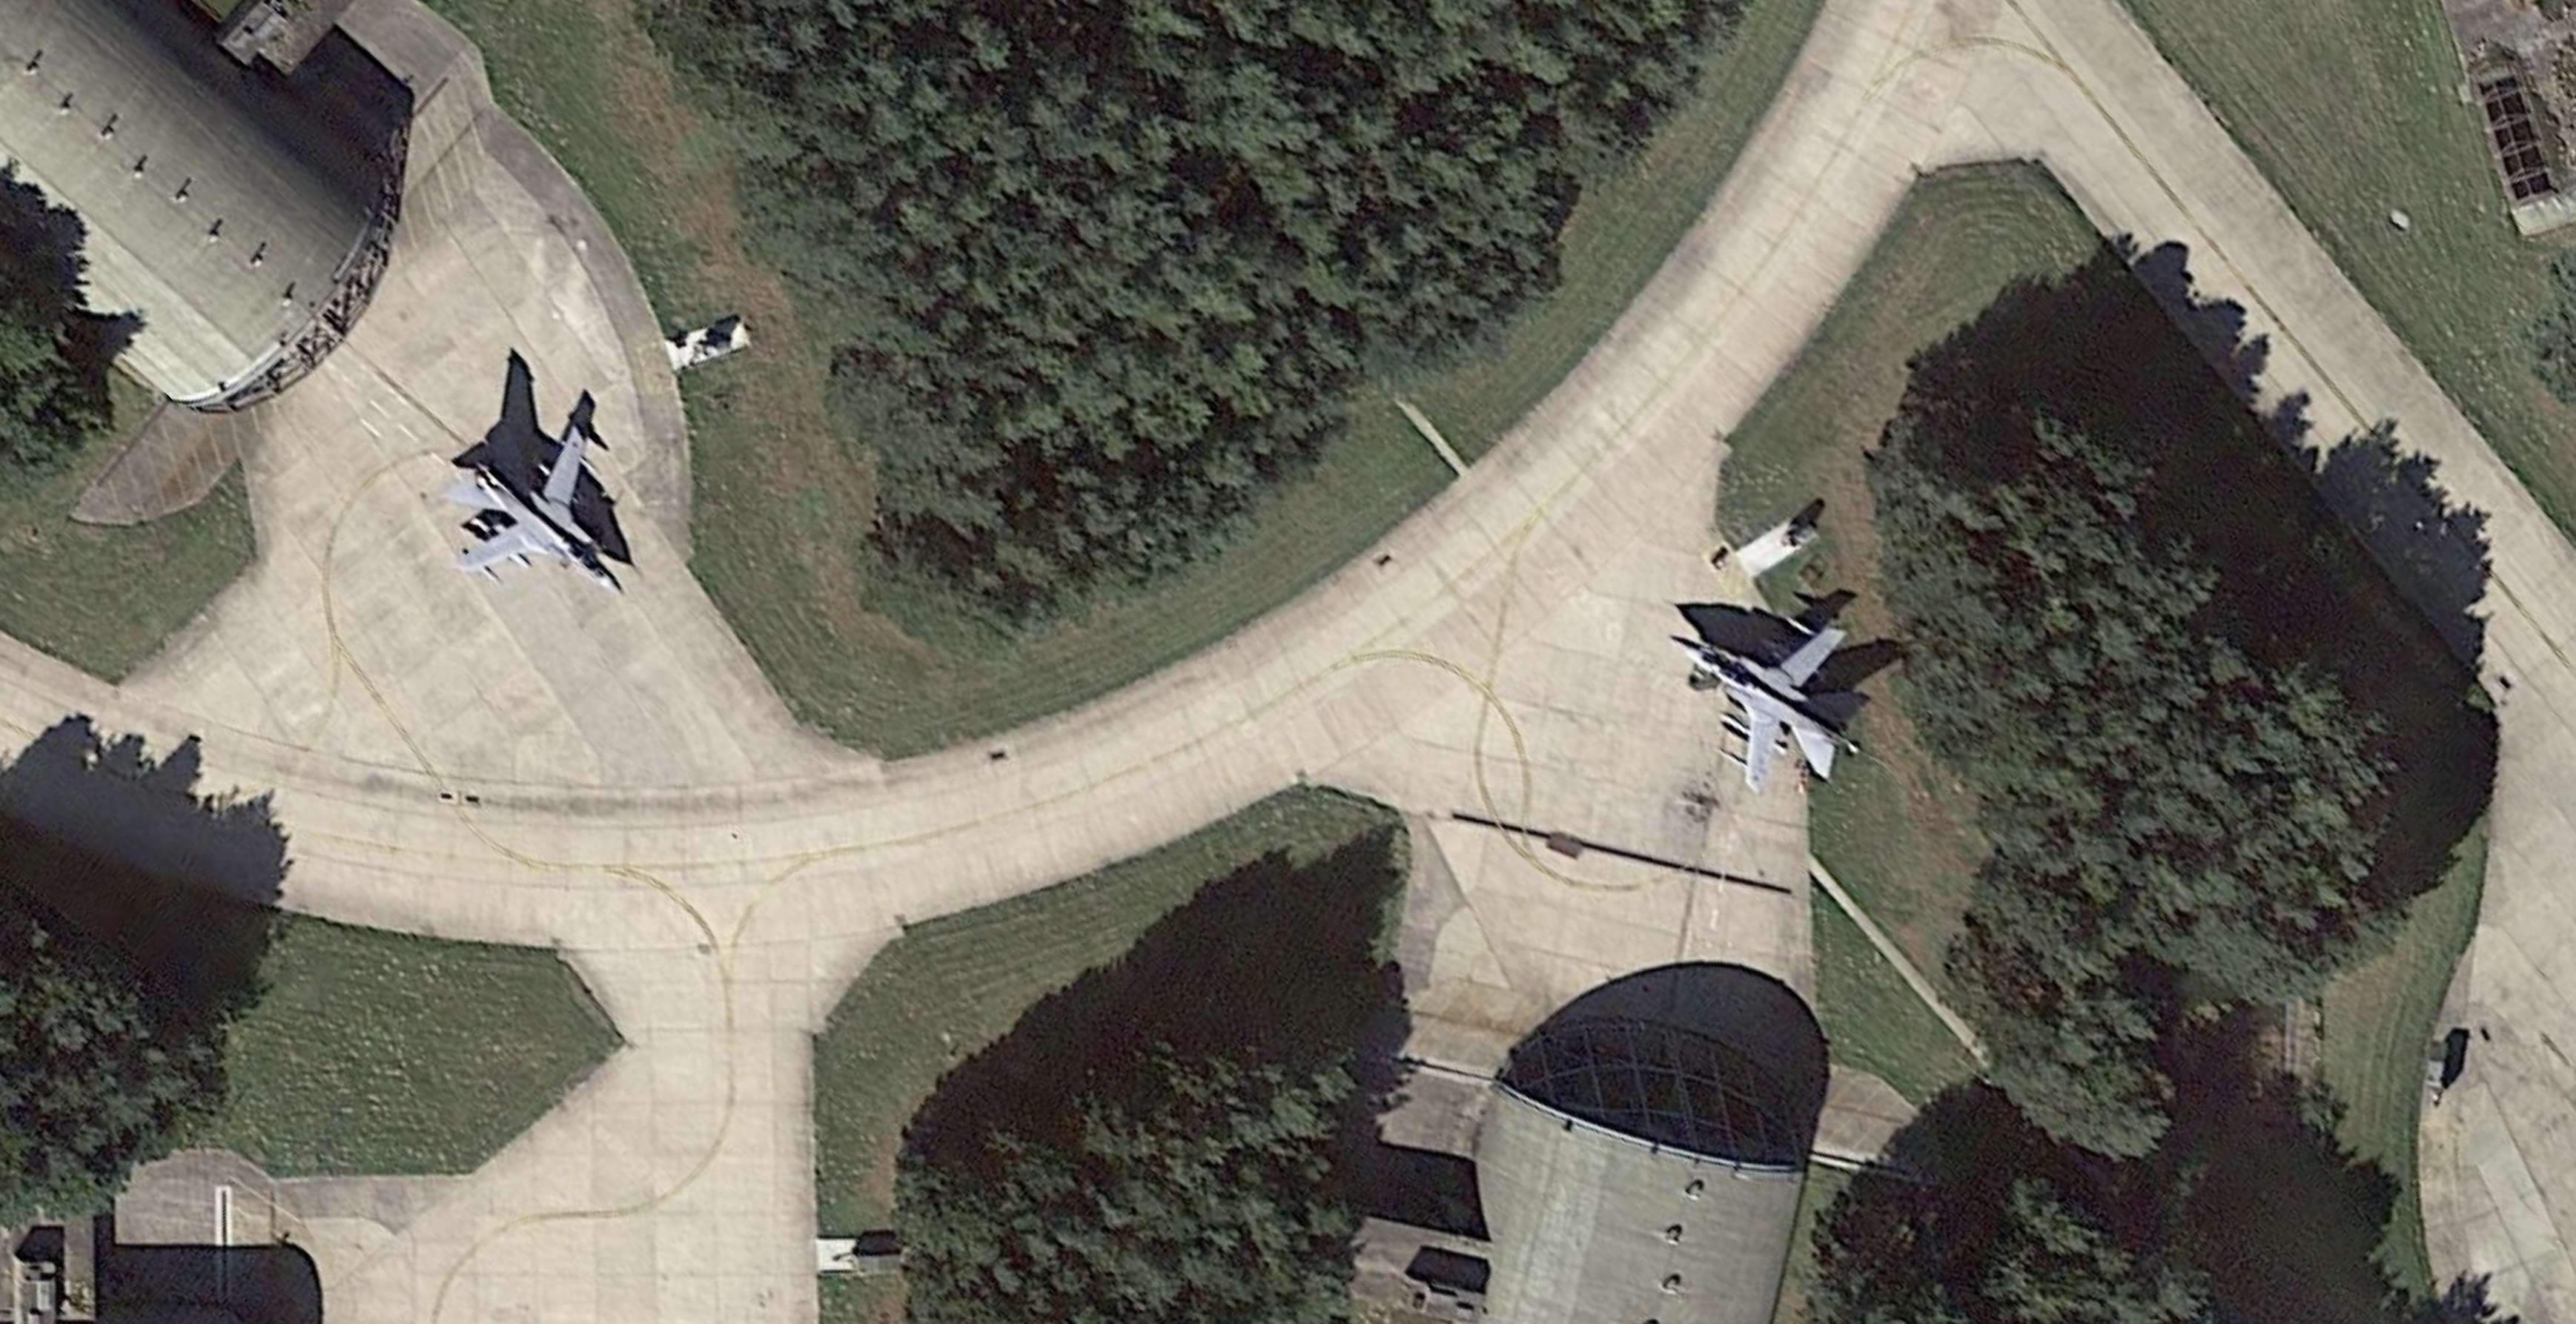Tornado: (1668, 615, 1874, 795), (439, 426, 630, 601)
